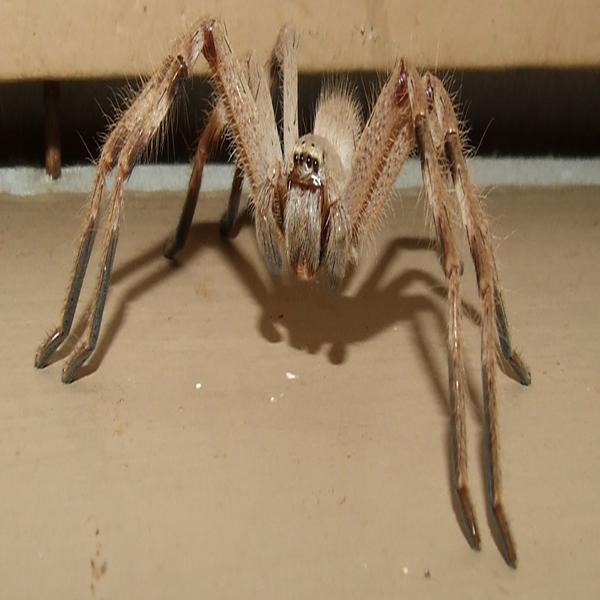Huntsman Spider: (69, 20, 525, 559)
